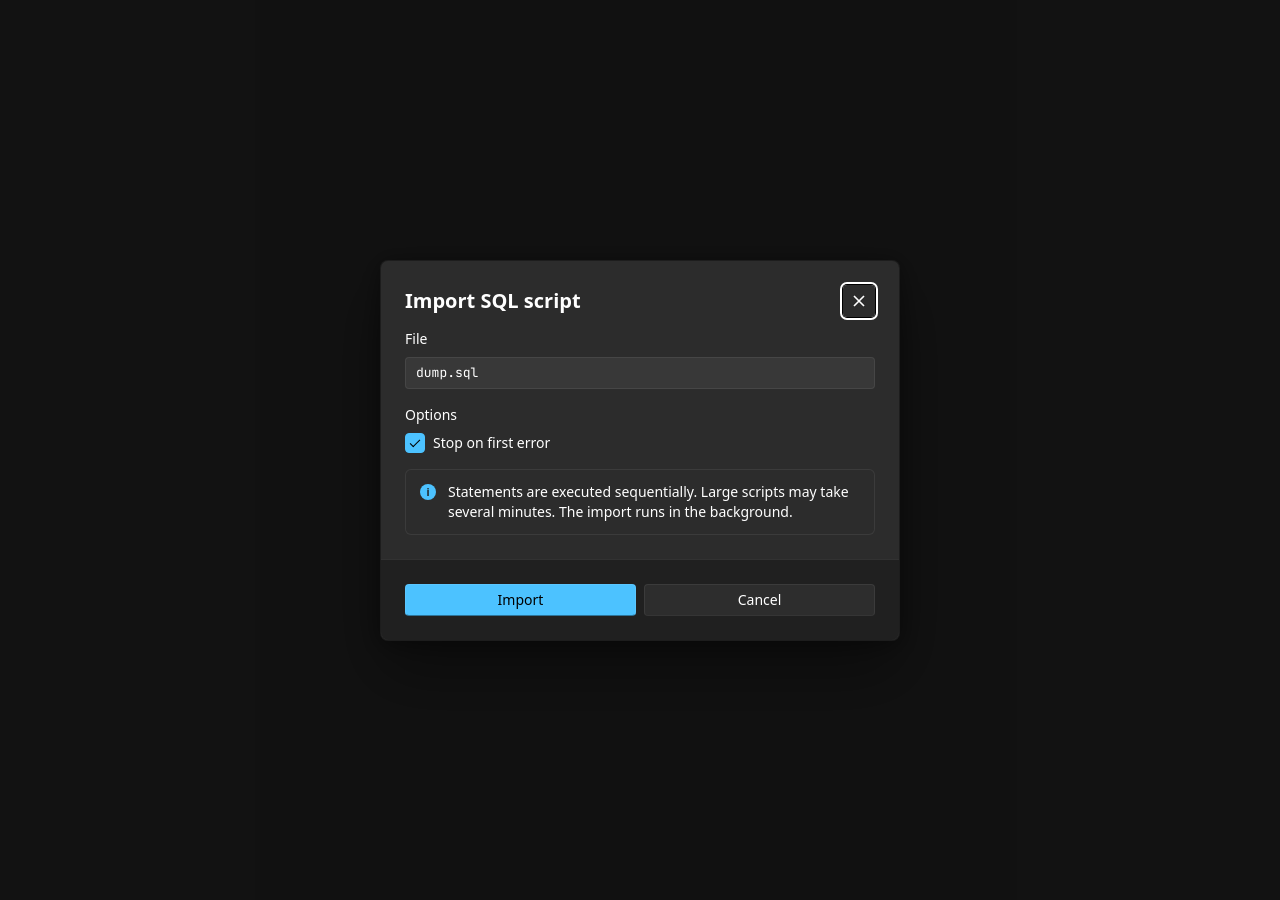
it: SqlImportDialog › shows progress bar and count when progress is available
Click the button with test id "import-submit-button". click: (520, 600)
box: left=405, top=584, right=636, bottom=616
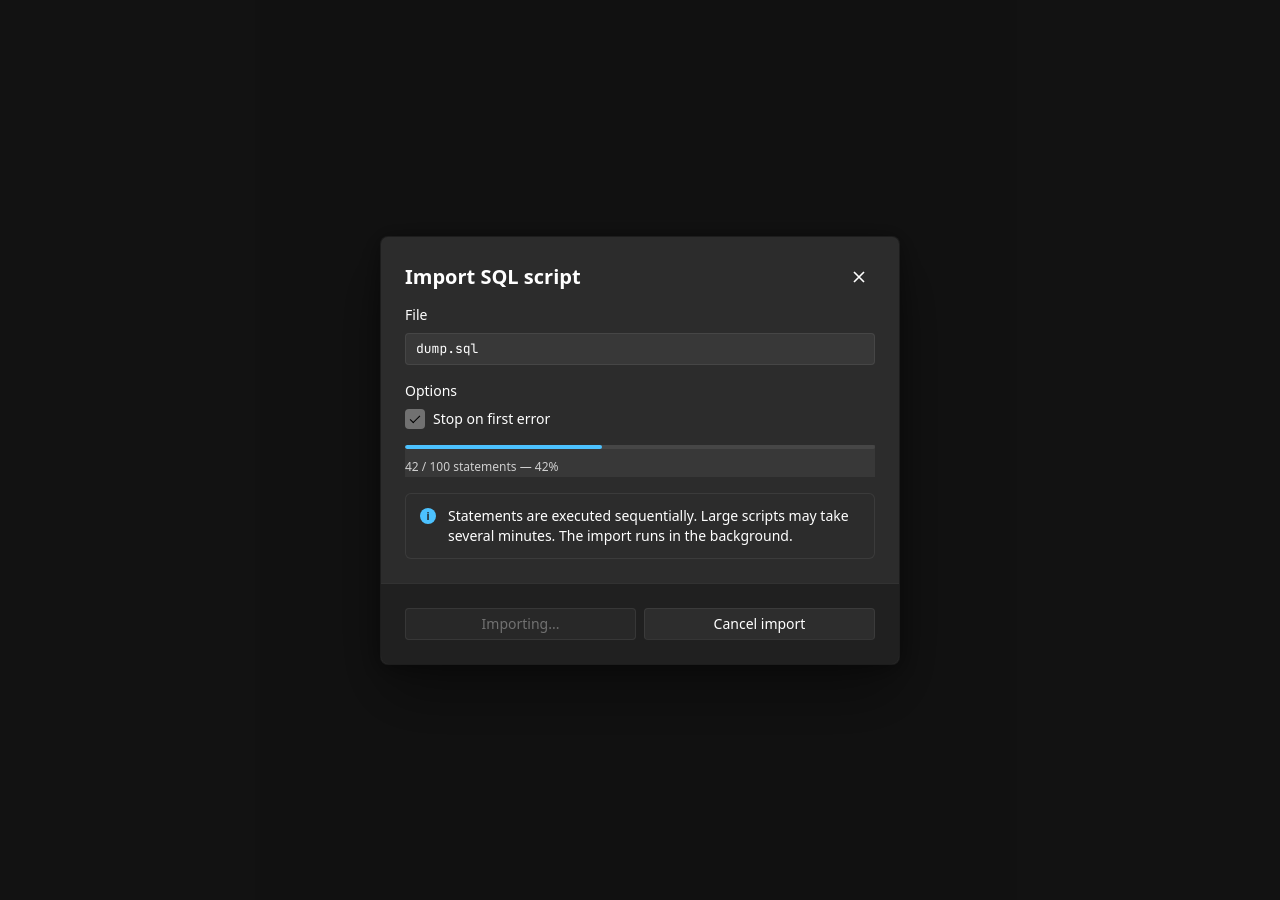
Expected: the element with test id "import-progress" shows "42 / 100 statements", left=405, top=444, right=875, bottom=476
Expected: the element with test id "import-progress" shows "42%", left=405, top=444, right=875, bottom=476
